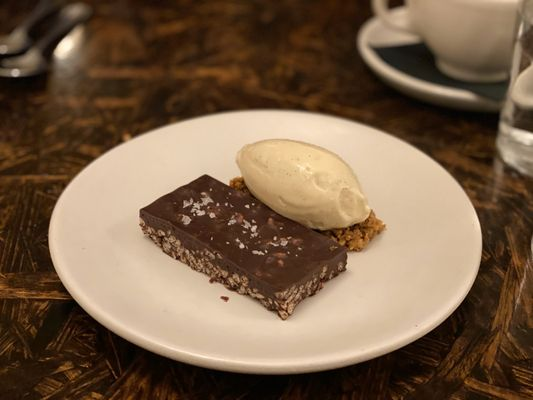pizza: (369, 0, 527, 85), (495, 1, 533, 181)
